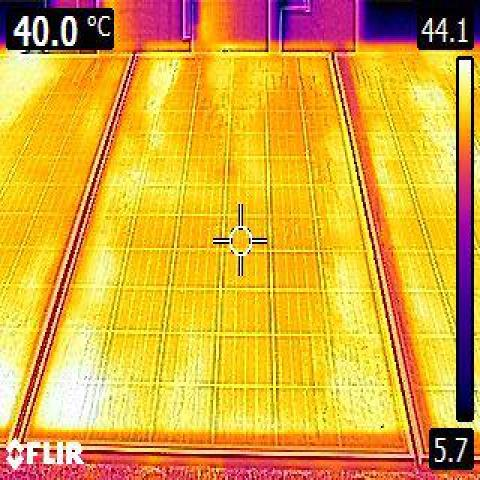fault: (53, 325, 106, 380), (41, 380, 93, 429)
